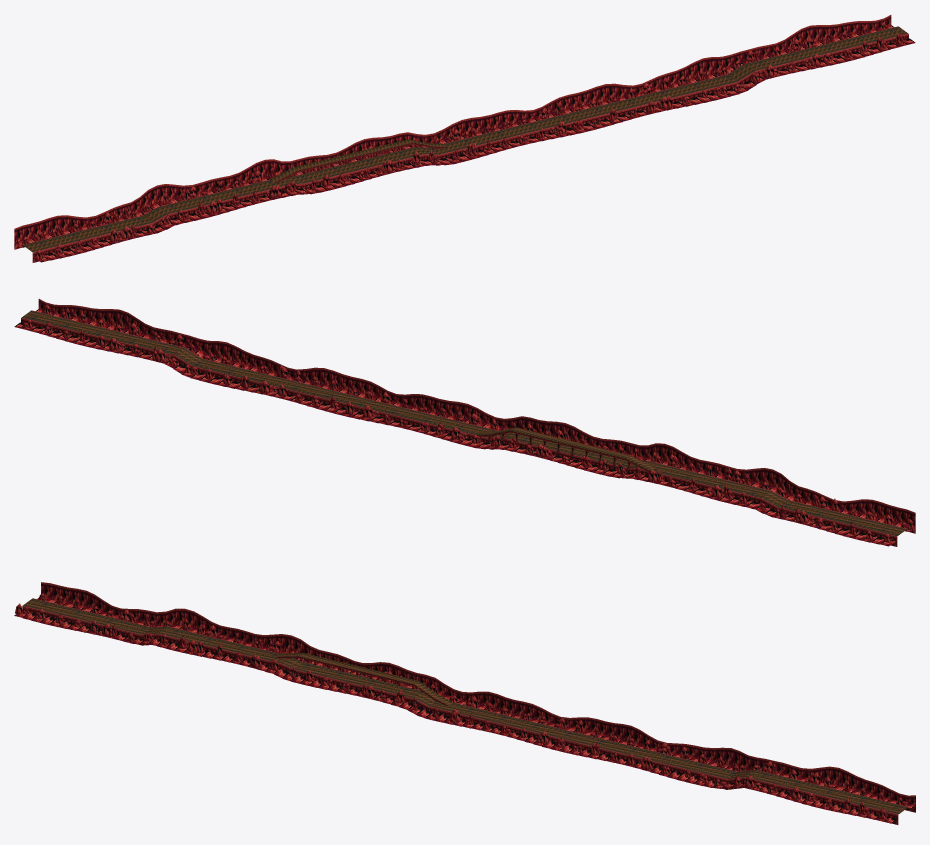
The model's file is FFFFFFTerrain.glb.
The picture shows the model from 3 angles, top to bottom: view 1: azimuth 30°, elevation 25°; view 2: azimuth 150°, elevation 25°; view 3: azimuth 330°, elevation 25°; orthographic projection.
Parts seen in each view (by area): view 1: Route_Sector_0, Route_Sector_2, Route_Sector_11, Route_Sector_9, Route_Sector_16, Route_Sector_13, Route_Sector_15, Route_Sector_6, Route_Sector_14, Route_Sector_5, Route_Sector_4, Route_Sector_7 (+6 smaller); view 2: Route_Sector_0, Route_Sector_2, Route_Sector_11, Route_Sector_9, Route_Sector_16, Route_Sector_13, Route_Sector_6, Route_Sector_15, Route_Sector_14, Route_Sector_4, Route_Sector_5, Route_Sector_7 (+6 smaller); view 3: Route_Sector_0, Route_Sector_7, Route_Sector_11, Route_Sector_9, Route_Sector_13, Route_Sector_15, Route_Sector_2, Route_Sector_16, Route_Sector_5, Route_Sector_4, Route_Sector_8, Route_Sector_6 (+6 smaller).
Boxes of the visible parts, x1,y1,x2,y2 form: Route_Sector_0: (14, 215, 94, 262); Route_Sector_2: (113, 184, 193, 237); Route_Sector_11: (559, 83, 639, 131); Route_Sector_9: (462, 110, 540, 154); Route_Sector_16: (810, 21, 890, 63); Route_Sector_13: (659, 57, 739, 106); Route_Sector_15: (758, 26, 838, 75); Route_Sector_6: (308, 139, 388, 188); Route_Sector_14: (712, 47, 782, 93); Route_Sector_5: (265, 156, 336, 195); Route_Sector_4: (211, 160, 290, 208); Route_Sector_7: (364, 132, 443, 173); Route_Sector_0: (835, 499, 915, 546); Route_Sector_2: (736, 468, 816, 521); Route_Sector_11: (290, 367, 370, 415); Route_Sector_9: (389, 394, 467, 438); Route_Sector_16: (39, 305, 119, 347); Route_Sector_13: (190, 341, 270, 390); Route_Sector_6: (541, 423, 621, 472); Route_Sector_15: (91, 310, 171, 359); Route_Sector_14: (147, 331, 217, 377); Route_Sector_4: (639, 444, 718, 492); Route_Sector_5: (593, 440, 664, 479); Route_Sector_7: (486, 416, 565, 457); Route_Sector_0: (14, 582, 95, 628); Route_Sector_7: (365, 663, 444, 714); Route_Sector_11: (560, 717, 639, 762); Route_Sector_9: (462, 692, 541, 738); Route_Sector_13: (659, 744, 739, 787); Route_Sector_15: (759, 763, 838, 805); Route_Sector_2: (114, 608, 193, 648); Route_Sector_16: (810, 768, 890, 817); Route_Sector_5: (265, 635, 337, 685); Route_Sector_4: (212, 629, 291, 671); Route_Sector_8: (415, 684, 488, 726); Route_Sector_6: (309, 654, 388, 697).
Size of the model in its own units: 451 by 15.2 by 25.65.
1 material, 1 textured.
